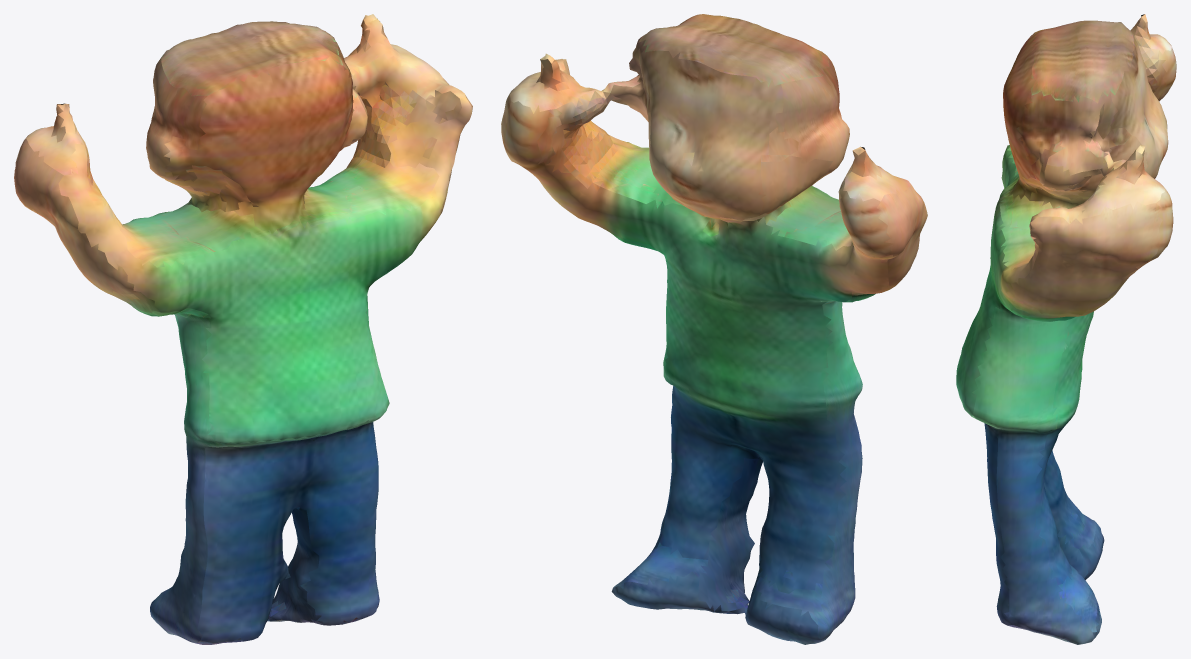
Rendered from test_generate_image_to_model_stability_stability_model.glb.
3 renders of one model, left to right at view 1: azimuth 30°, elevation 25°; view 2: azimuth 150°, elevation 25°; view 3: azimuth 270°, elevation 25°, orthographic. The views are drawn at different scales.
Parts seen in each view (by area): view 1: world; view 2: world; view 3: world.
Part boxes in pixels (bbox=[...]): world: bbox=[14, 14, 472, 644]; world: bbox=[501, 14, 927, 644]; world: bbox=[956, 14, 1176, 644].
Size of the model in its own units: 0.7312 by 0.9886 by 0.3567.
Materials: 1 (1 with a texture image).
